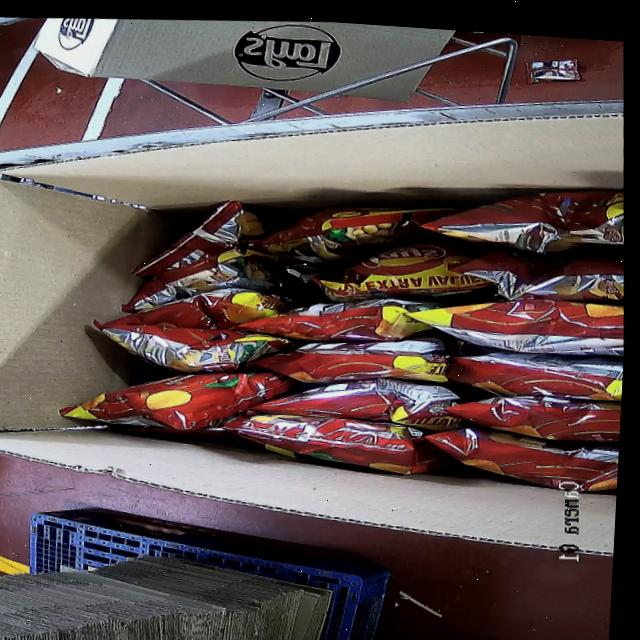MASALA: (44, 152, 632, 521)
